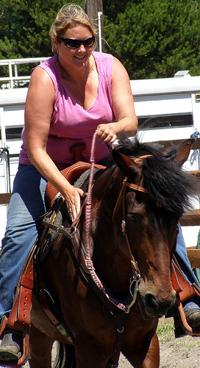person: (1, 1, 200, 326)
